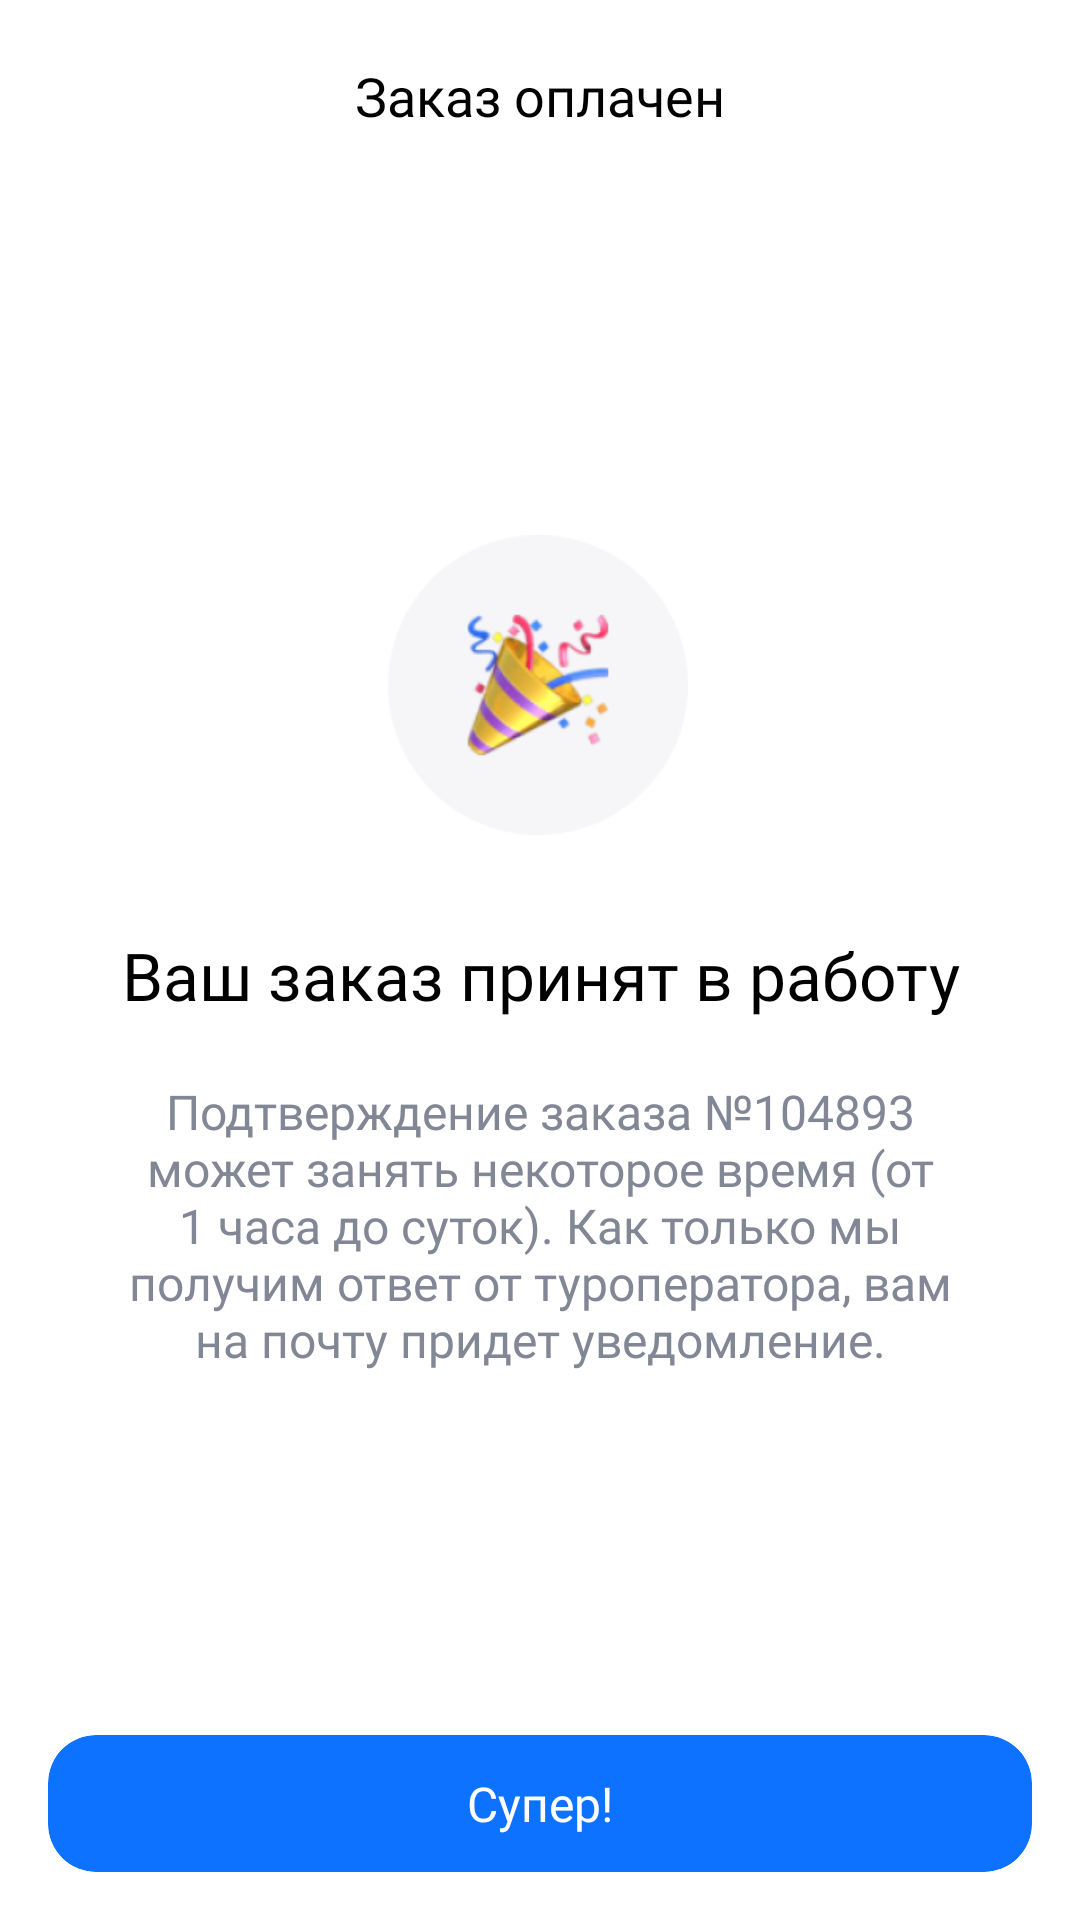

Where icons sit on this 1080w x 1920h app screen, as (x1, y1, x2, y2):
party: (467, 614, 609, 756)
